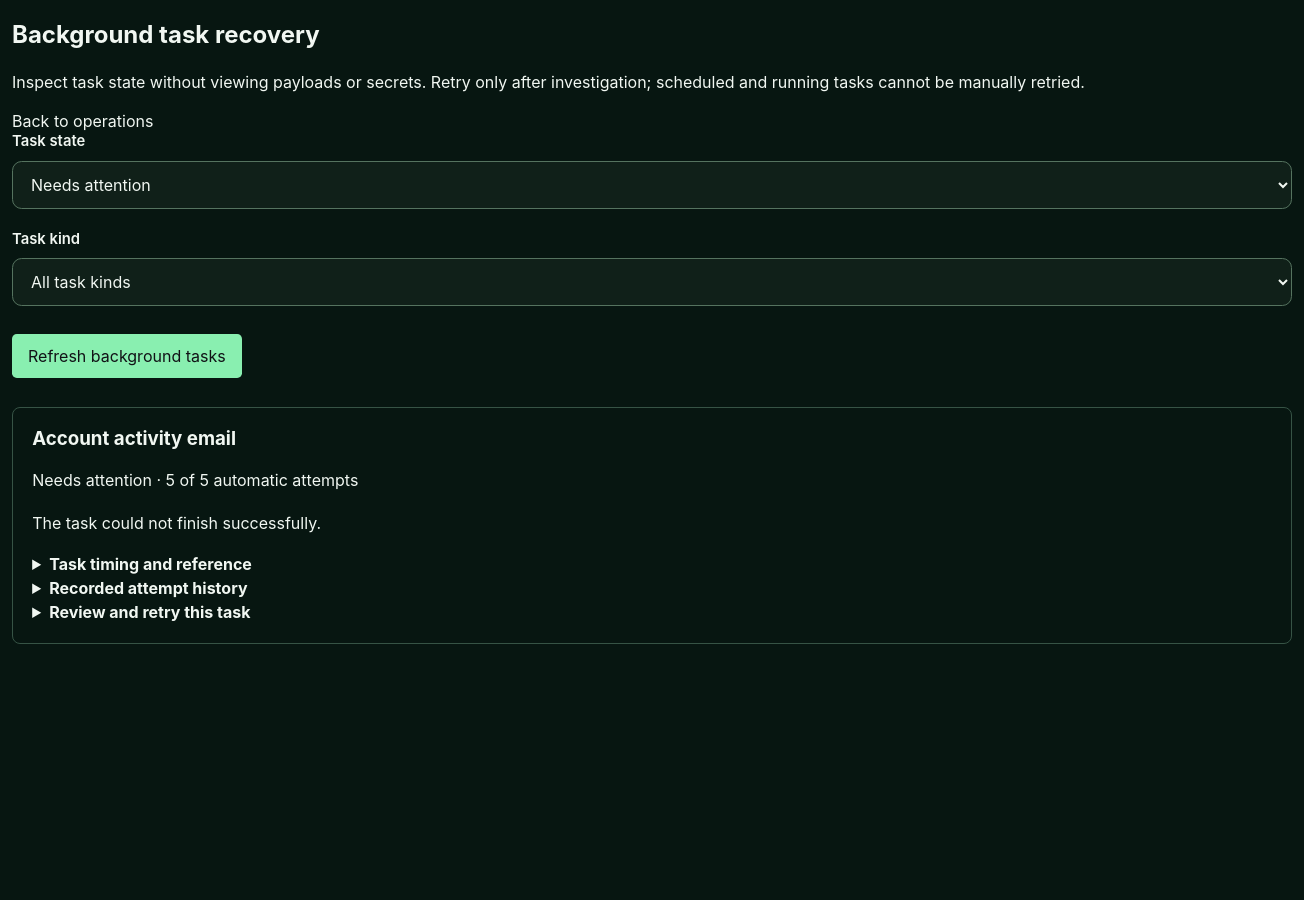
Test case: retains the audit explanation on a stale generation and never guesses a new one
Click the heading "Review and retry this task".
click(150, 612)  # box [49,602,250,622]
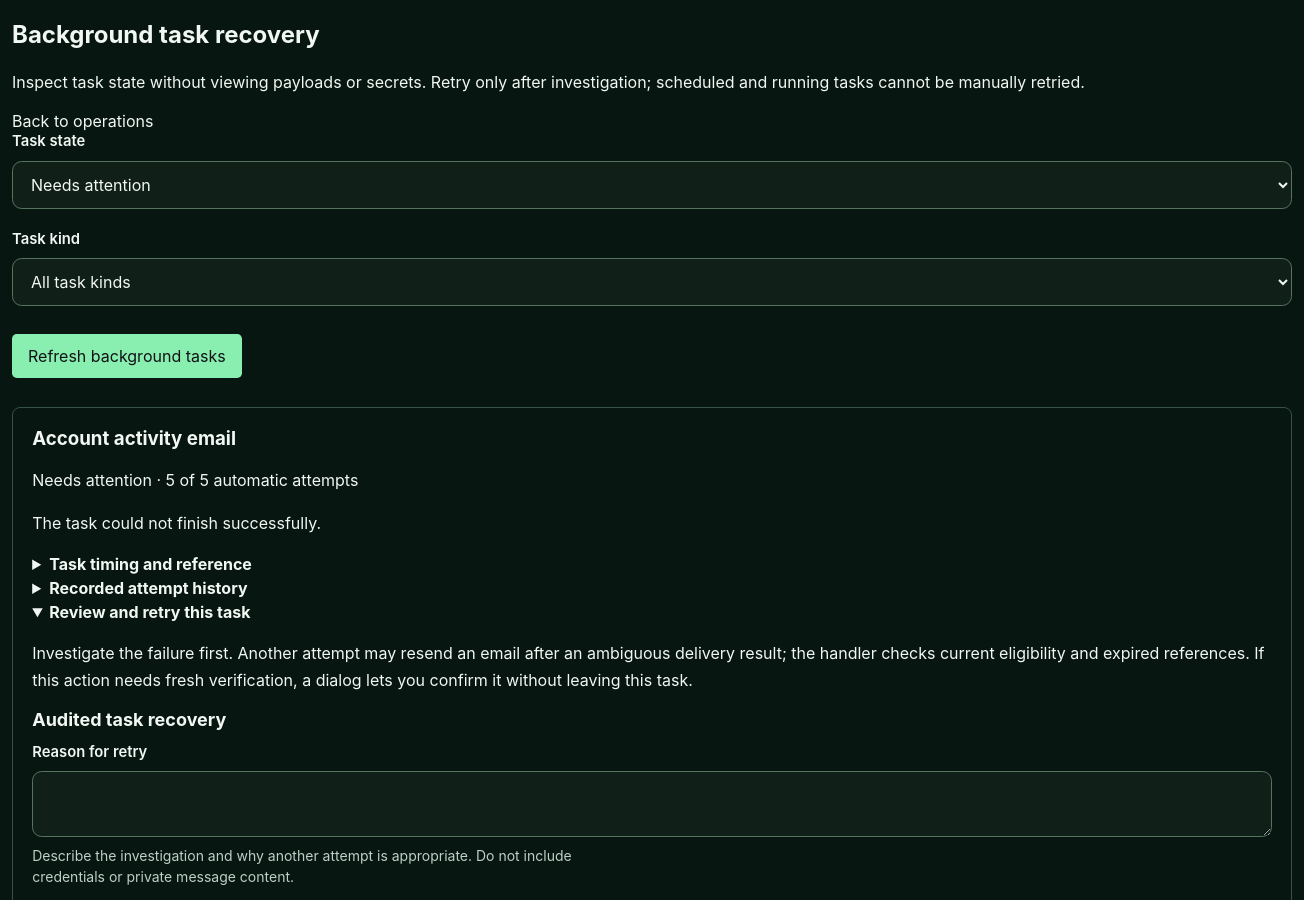
Type "Investigated outage" into the text box labelled "Reason for retry".
click(652, 804); type("Investigated outage")  # box [32,771,1272,837]
(page scrolled)
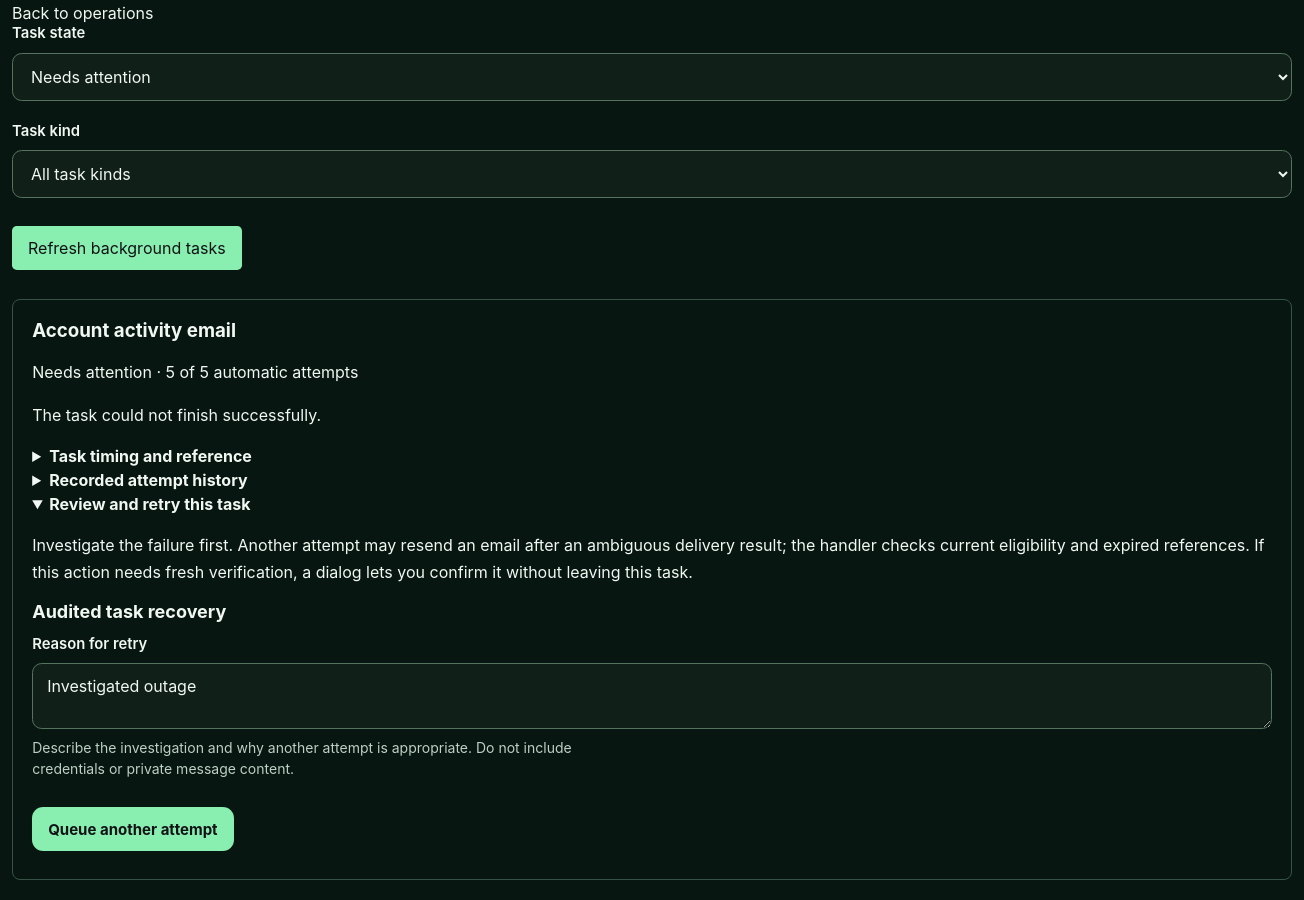
Click the button "Queue another attempt".
click(133, 829)  # box [32,807,234,851]
(page scrolled)
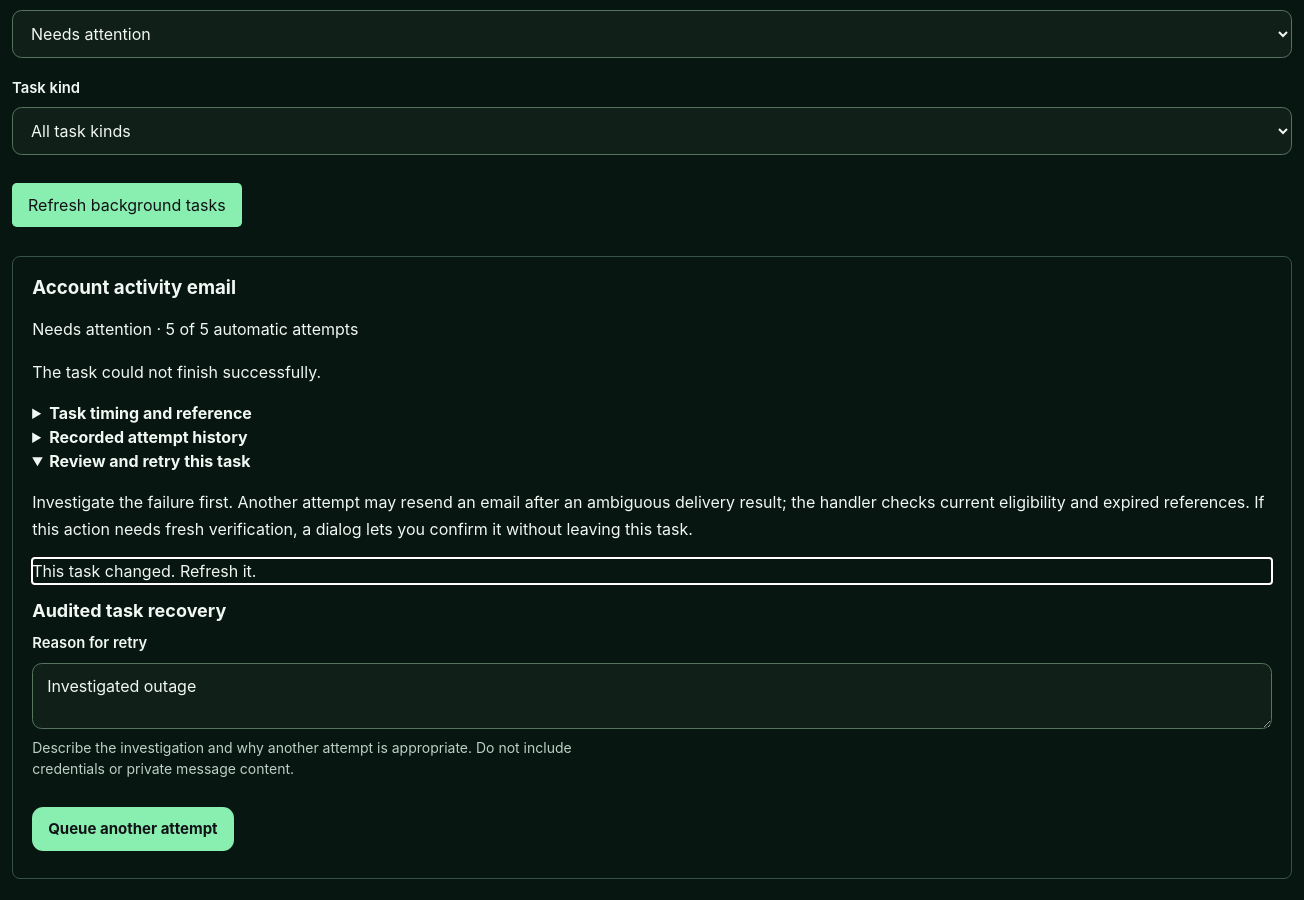
Expected: the message shows "This task changed.", [32,561,256,581]
